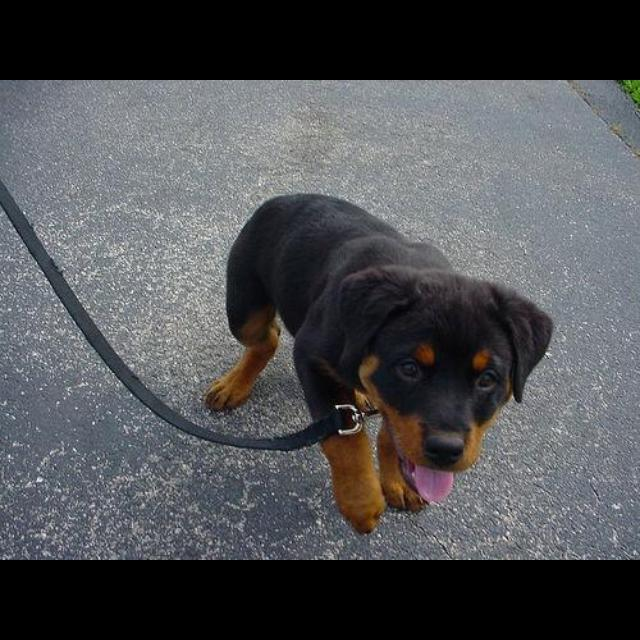rottweiler: (205, 193, 554, 534)
